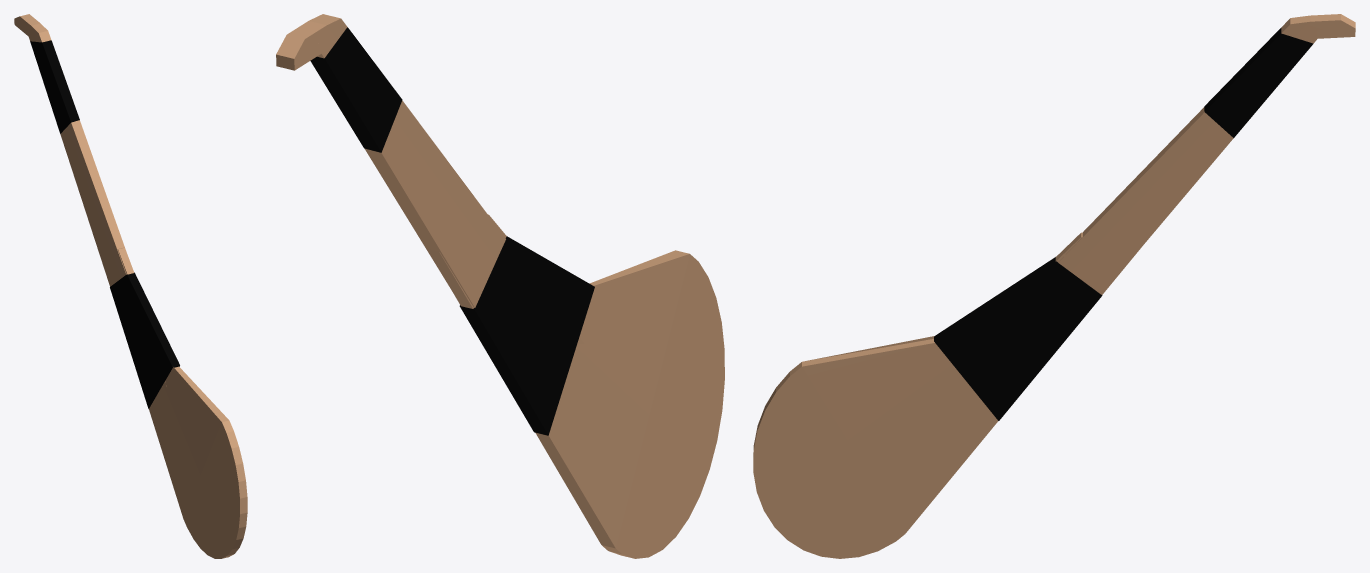
Rendered from hurley.fbx.
The picture shows the model from 3 angles, left to right: view 1: azimuth 30°, elevation 25°; view 2: azimuth 150°, elevation 25°; view 3: azimuth 270°, elevation 25°; orthographic projection. The views are drawn at different scales.
Parts seen in each view (by area): view 1: Cylinder.002; view 2: Cylinder.002; view 3: Cylinder.002.
Boxes of the visible parts, box(x1,y1,x2,y2) form: Cylinder.002: box(14, 14, 247, 558); Cylinder.002: box(276, 14, 724, 558); Cylinder.002: box(753, 14, 1355, 558).
Size of the model in its own units: 23.52 by 952 by 964.
